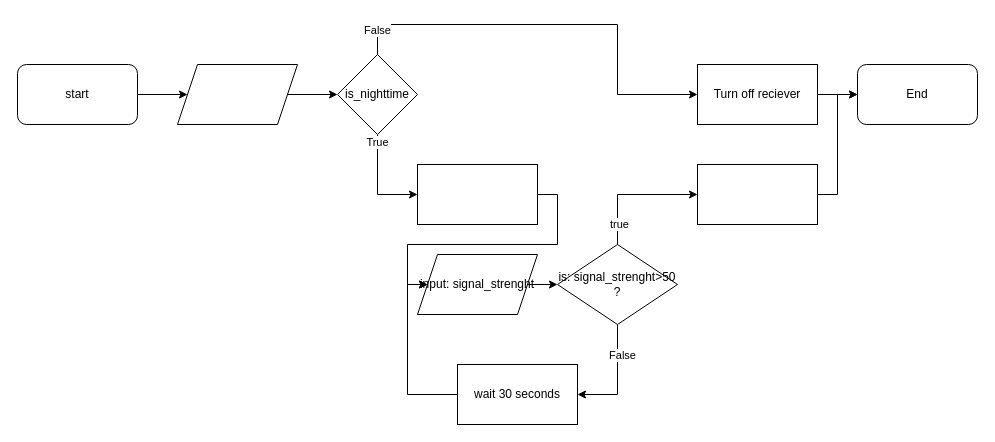
Some shapes in this 995 by 442 pixel diagram are drawn without their labels. Here are the shapes that lost their labels. From the top down, the centre of each, then its label:
the point at 237,94: input: is_nighttime
the point at 477,194: Turn on reciever
the point at 757,194: Record
